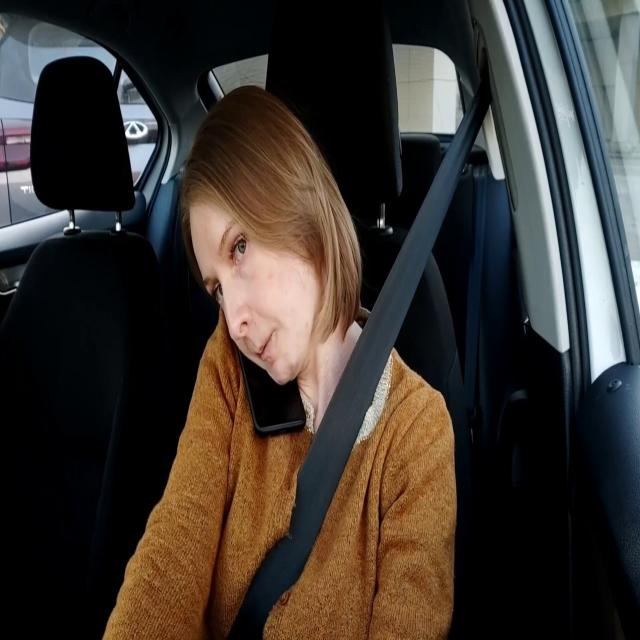phone: (233, 341, 308, 441)
